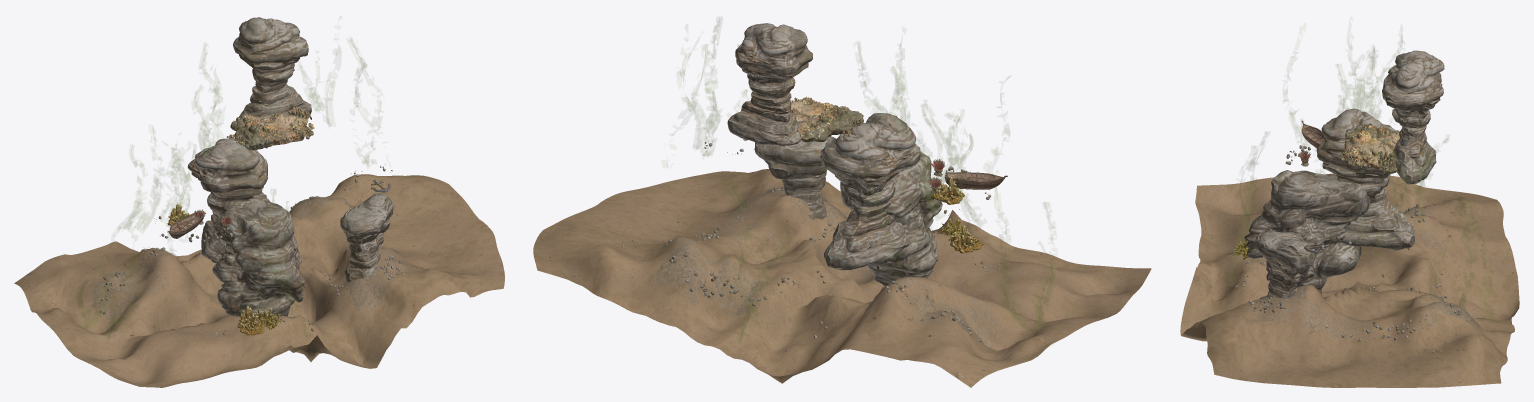
The model's file is coralReef.gltf.
3 views of the same model, side by side, from view 1: azimuth 30°, elevation 25°; view 2: azimuth 150°, elevation 25°; view 3: azimuth 270°, elevation 25° (orthographic). The views are drawn at different scales.
Visible parts, largest first — view 1: Plane049, maczuga_heraklesa_LOD1_LOD1_LOD1_LOD1_LOD002_Material #5545_, pilar_rock005, pilar_rock006, Object1035_Material #4774_0, Object1040_Material #5548_0, pilar_rock004, floor_modul_006, Object1251_default_0, boat-smal001; view 2: Plane049, pilar_rock006, Object1040_Material #5548_0, pilar_rock005, Object1035_Material #4774_0, maczuga_heraklesa_LOD1_LOD1_LOD1_LOD1_LOD002_Material #5545_, pilar_rock004, floor_modul_006, Object1251_default_0, boat-smal001; view 3: Plane049, maczuga_heraklesa_LOD1_LOD1_LOD1_LOD1_LOD002_Material #5545_, pilar_rock006, pilar_rock005, Object1035_Material #4774_0, Object1040_Material #5548_0, pilar_rock004, floor_modul_006, Object1251_default_0, boat-smal001.
Boxes of the visible parts, x1,y1,x2,y2 form: Plane049: (14, 174, 504, 387); maczuga_heraklesa_LOD1_LOD1_LOD1_LOD1_LOD002_Material #5545_: (212, 192, 304, 318); pilar_rock005: (233, 17, 311, 118); pilar_rock006: (187, 138, 267, 263); Object1035_Material #4774_0: (77, 17, 380, 339); Object1040_Material #5548_0: (93, 197, 417, 339); pilar_rock004: (340, 193, 393, 282); floor_modul_006: (227, 106, 314, 150); Object1251_default_0: (100, 165, 404, 338); boat-smal001: (167, 210, 203, 238); Plane049: (533, 169, 1151, 387); pilar_rock006: (820, 113, 920, 270); Object1040_Material #5548_0: (650, 184, 1029, 347); pilar_rock005: (727, 23, 812, 145); Object1035_Material #4774_0: (667, 18, 1054, 343); maczuga_heraklesa_LOD1_LOD1_LOD1_LOD1_LOD002_Material #5545_: (840, 151, 942, 286); pilar_rock004: (754, 136, 835, 219); floor_modul_006: (791, 96, 864, 142); Object1251_default_0: (617, 141, 1007, 341); boat-smal001: (944, 170, 1007, 189); Plane049: (1180, 174, 1519, 387); maczuga_heraklesa_LOD1_LOD1_LOD1_LOD1_LOD002_Material #5545_: (1244, 170, 1369, 293); pilar_rock006: (1316, 108, 1414, 250); pilar_rock005: (1382, 50, 1444, 184); Object1035_Material #4774_0: (1226, 35, 1491, 319); Object1040_Material #5548_0: (1245, 205, 1479, 338); pilar_rock004: (1255, 231, 1315, 298); floor_modul_006: (1341, 123, 1399, 174); Object1251_default_0: (1234, 145, 1471, 358); boat-smal001: (1301, 121, 1325, 148).
Size of what is drawn, in the model's own units: 10.42 by 6.5 by 6.59.
Materials: 13 (13 with a texture image).
